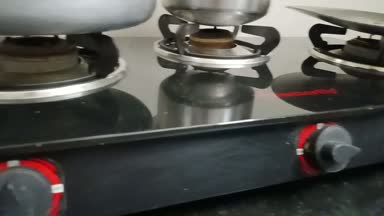flame_gas_off: (169, 14, 366, 182)
